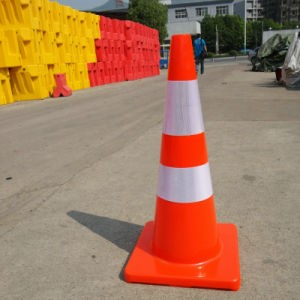traffic cone: (124, 33, 241, 290)
